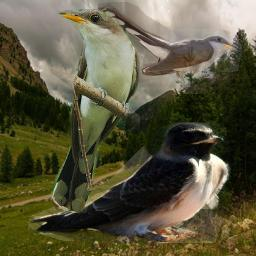Cuckoo: (51, 9, 140, 213), (98, 2, 242, 94)
Swallow: (26, 122, 231, 243)
